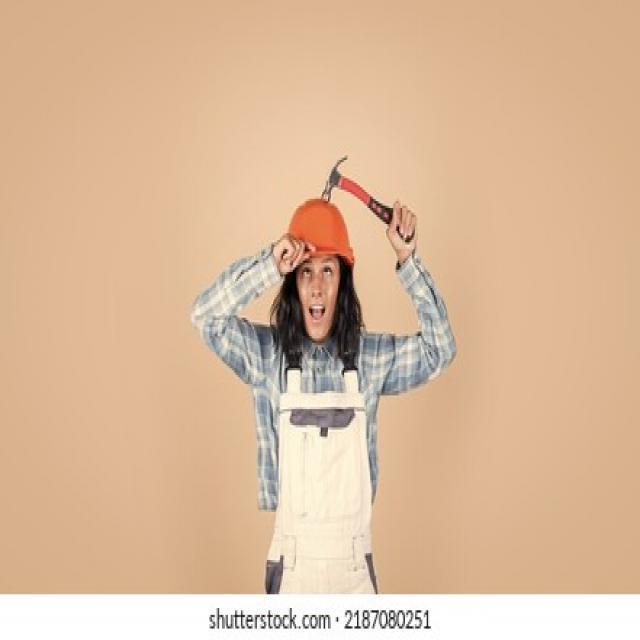hammer: (316, 150, 422, 250)
